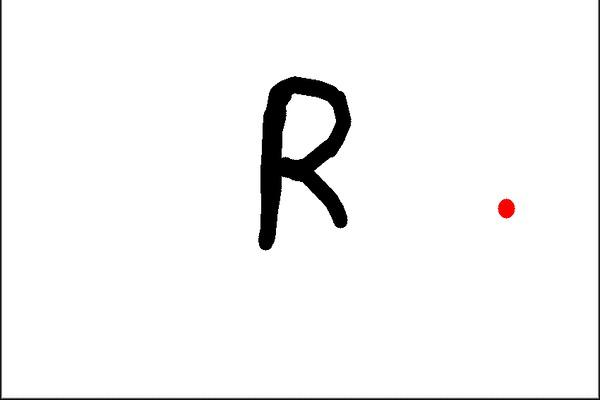R: (252, 67, 358, 258)
